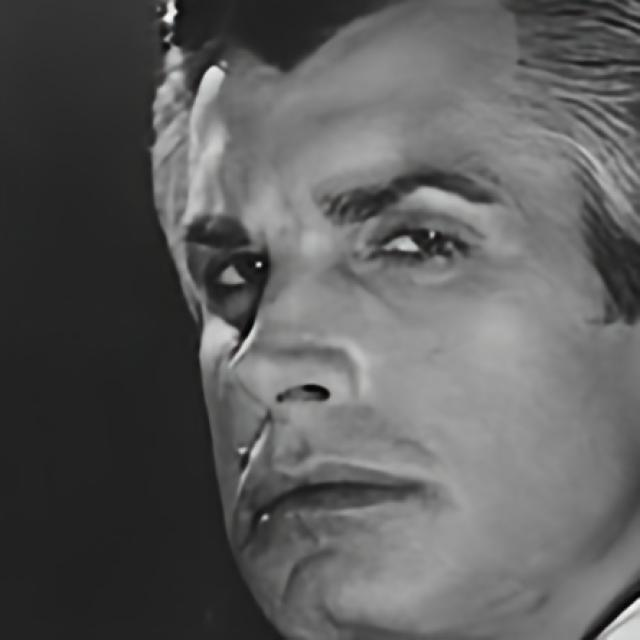anger: (172, 49, 640, 640)
